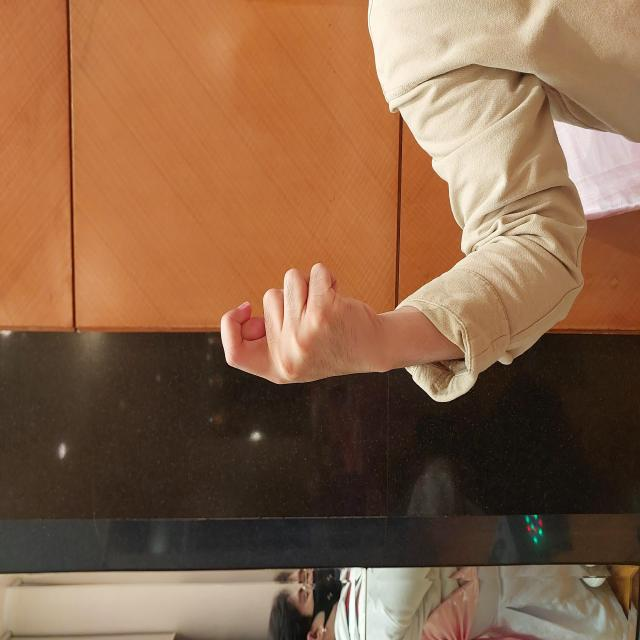T: (254, 218, 383, 385)
